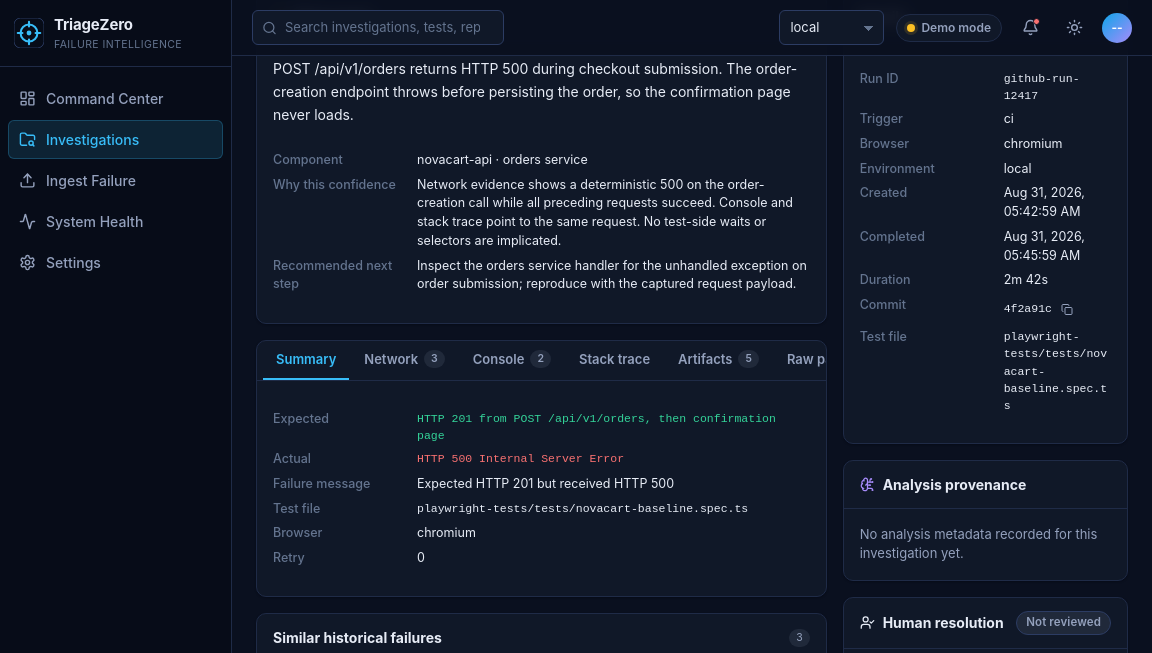
Test: Investigation detail › shows evidence tabs with network requests
The width and height of the screenshot is (1152, 653).
(page scrolled)
Check: the text "Expected HTTP 201 but received HTTP 500" is shown, box [417,476,674,491]
What coordinates should you click on to do the following:
click the tab "Network 3"
I would click on:
 (405, 360)
Its box is [351,340,458,380].
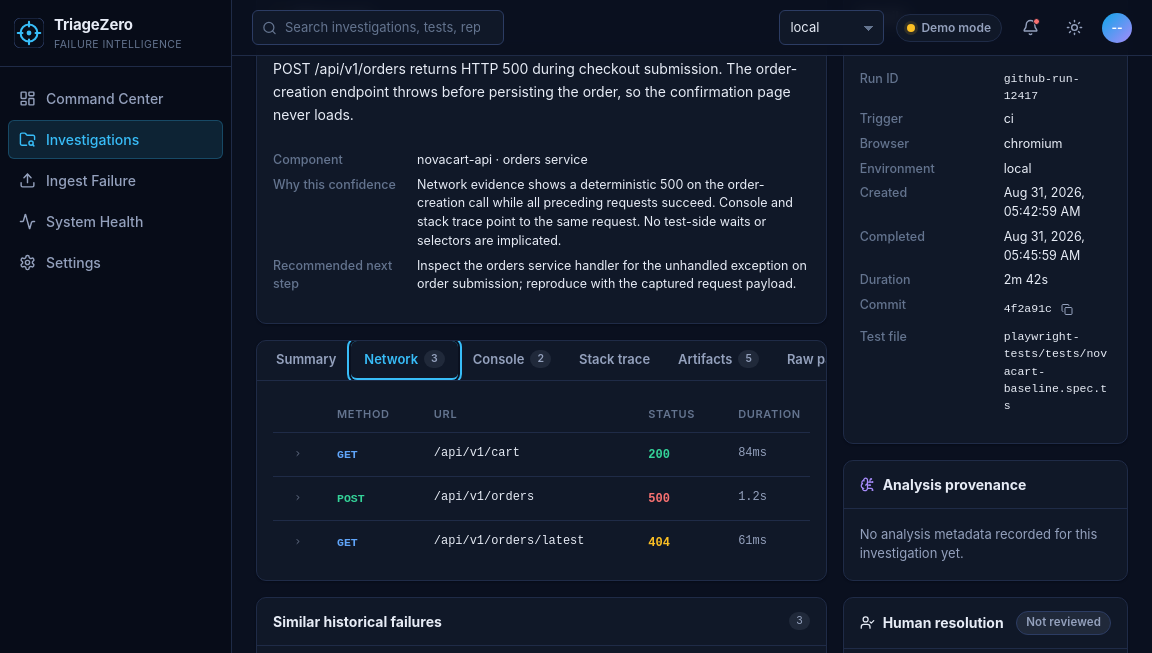
Check: the text "500" is shown, box [648,492,670,506]
Check: the text "/api/v1/orders" is shown, box [420,476,634,520]
What coordinates should you click on to do the following:
click the tab "Console 2"
I would click on:
 (512, 360)
Its box is [460,340,564,380].
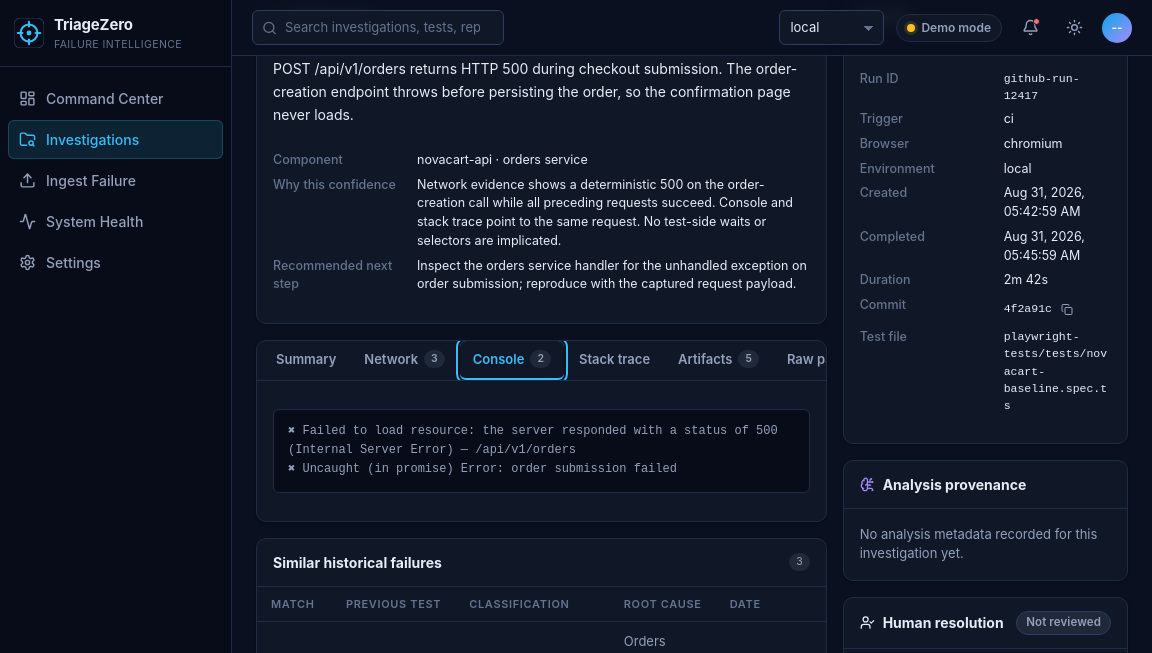
Check: the text "Failed to load resource" is shown, box [288,424,785,476]
